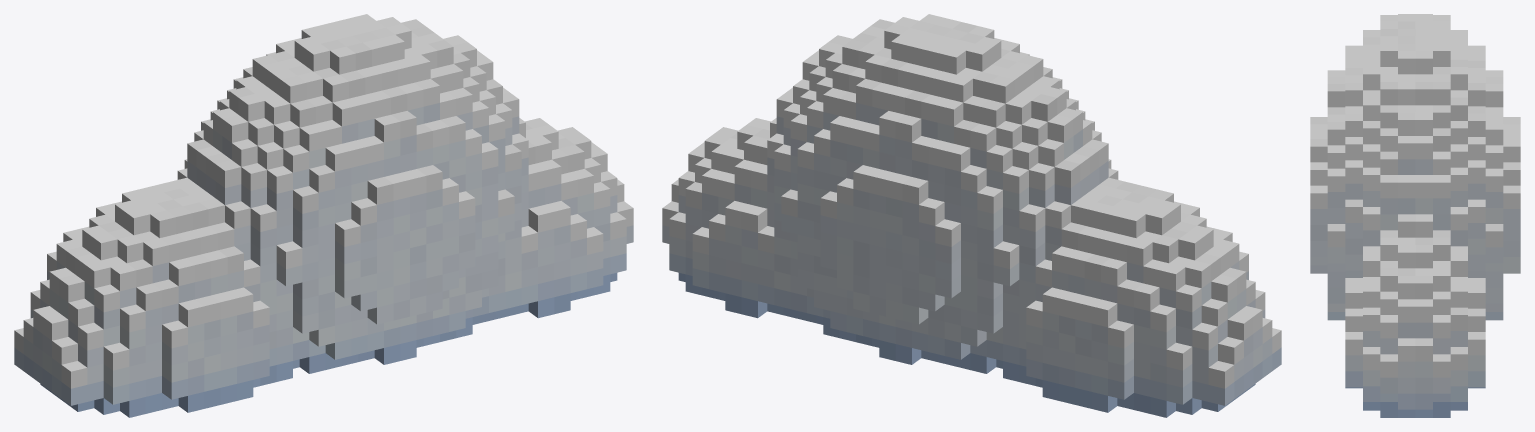
The model's file is cloud_voxel_b.glb.
3 views of the same model, side by side, from view 1: azimuth 30°, elevation 25°; view 2: azimuth 150°, elevation 25°; view 3: azimuth 270°, elevation 25° (orthographic). The views are drawn at different scales.
Visible parts, largest first — view 1: Cloud.001; view 2: Cloud.001; view 3: Cloud.001.
Boxes of the visible parts, left/top/right/bottom form: Cloud.001: left=14, top=14, right=633, bottom=417; Cloud.001: left=662, top=14, right=1281, bottom=417; Cloud.001: left=1310, top=14, right=1520, bottom=417.
Bounding box in the file's own units: 1.4 × 0.68 × 0.48.
